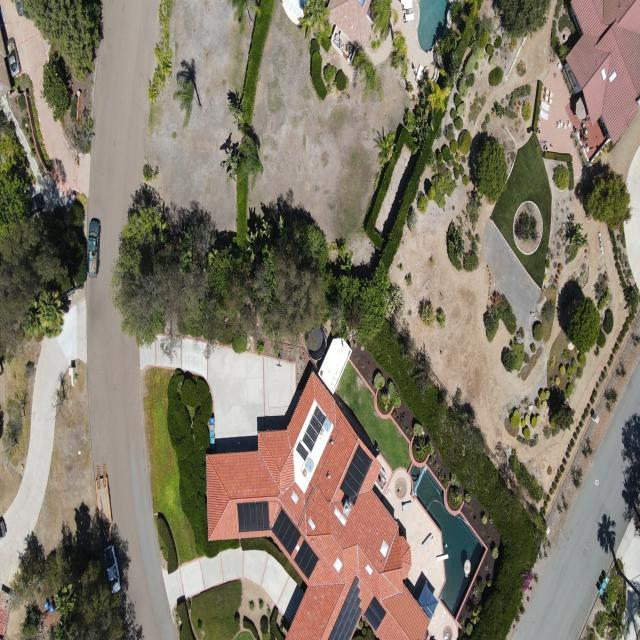solar-panels: (328, 576, 374, 640), (336, 443, 377, 505), (265, 508, 308, 556), (287, 539, 325, 580), (359, 596, 392, 631), (237, 501, 270, 532), (310, 405, 329, 426), (307, 415, 325, 435), (303, 423, 321, 443), (293, 442, 311, 461), (300, 432, 317, 452)
